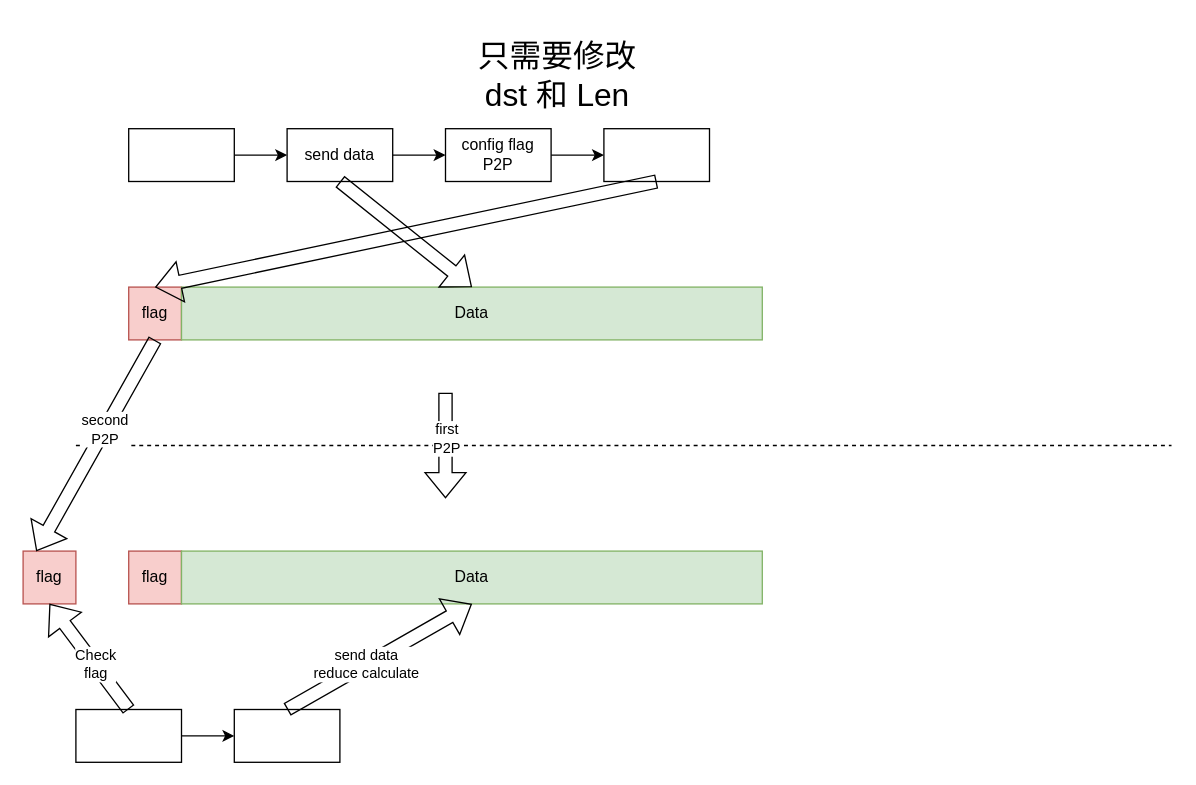
Image size: 1196x785. Some labels were removed from this diagram. The shapes that lost their labels are listed below. From the top down, each one's centre as x and y in pixels, then its label:
At (x=180, y=154): "config data P2P".
At (x=656, y=154): "P2P flag".
At (x=128, y=735): "memory Check".
At (x=286, y=735): "reduce & send".
